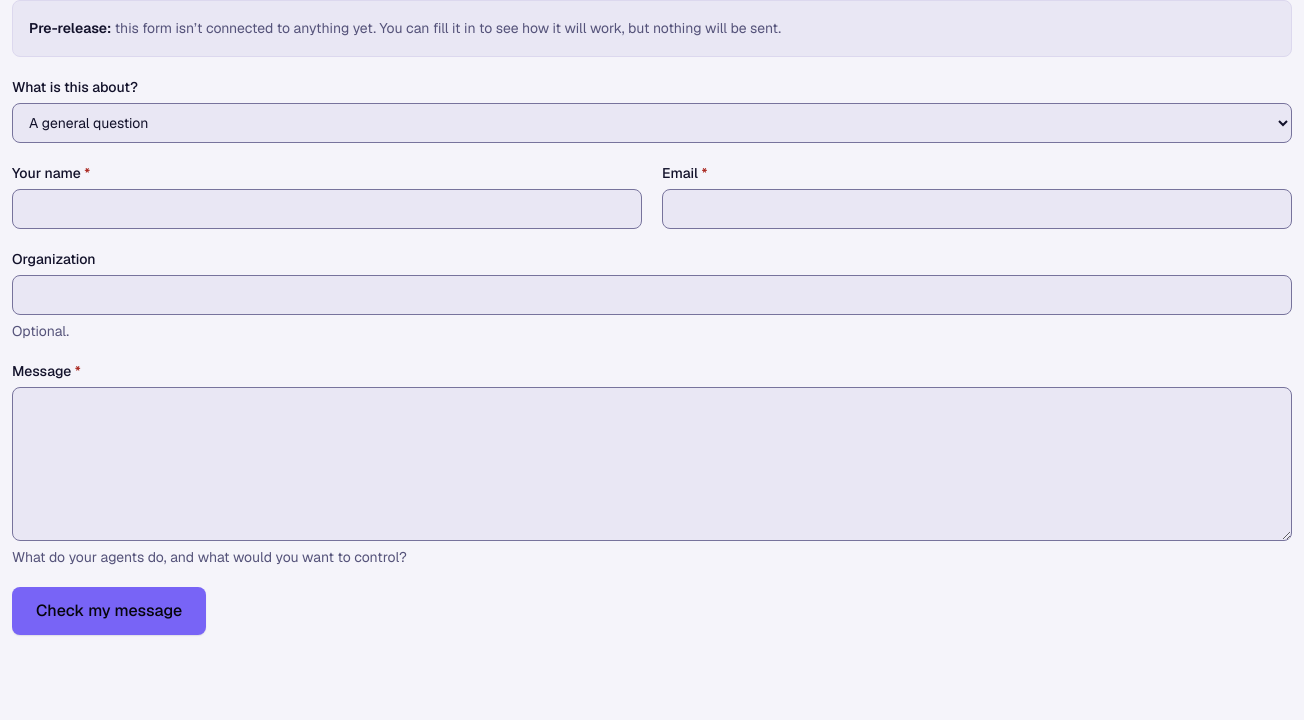
ContactForm › validates required fields, announces the errors and moves focus to them
Click the button "Check my message" at (109, 611), box [12,587,206,635]
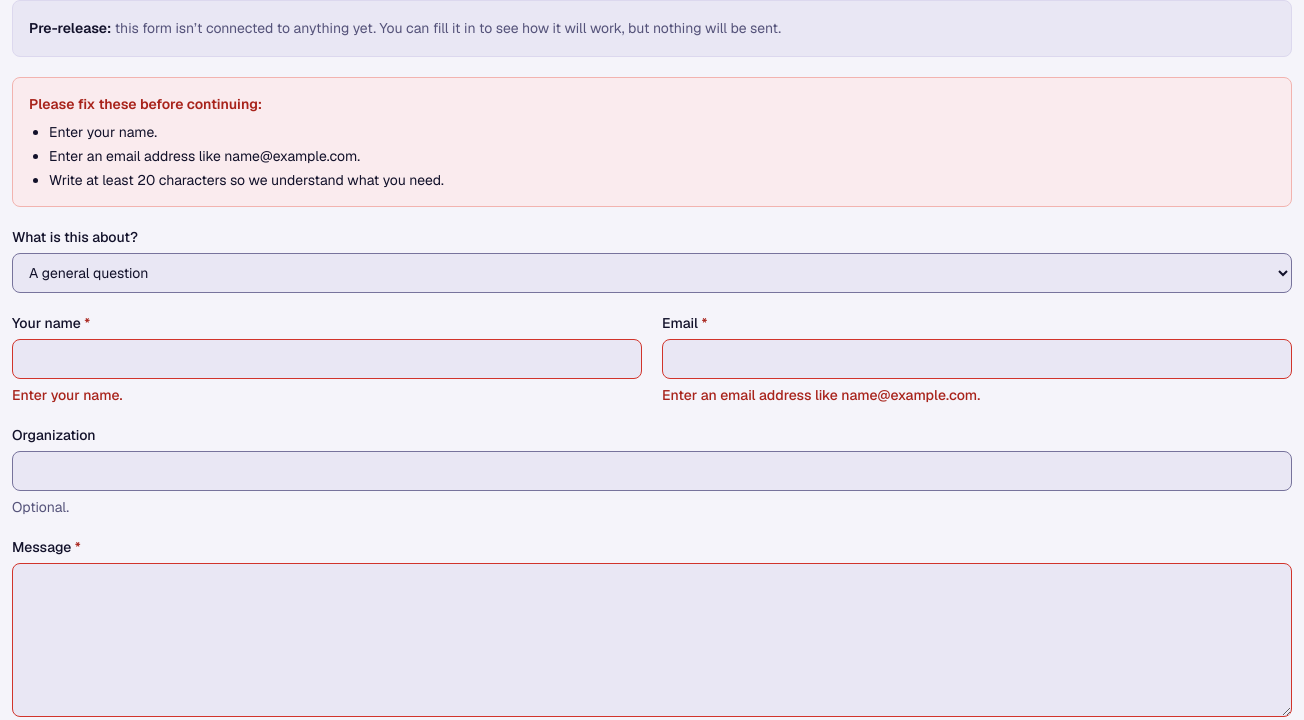
Result: the message shows "Enter your name." at [49,123,157,141]
Result: the message shows "email address" at [49,147,360,165]
Result: the message shows "at least 20 characters" at [49,171,444,189]
